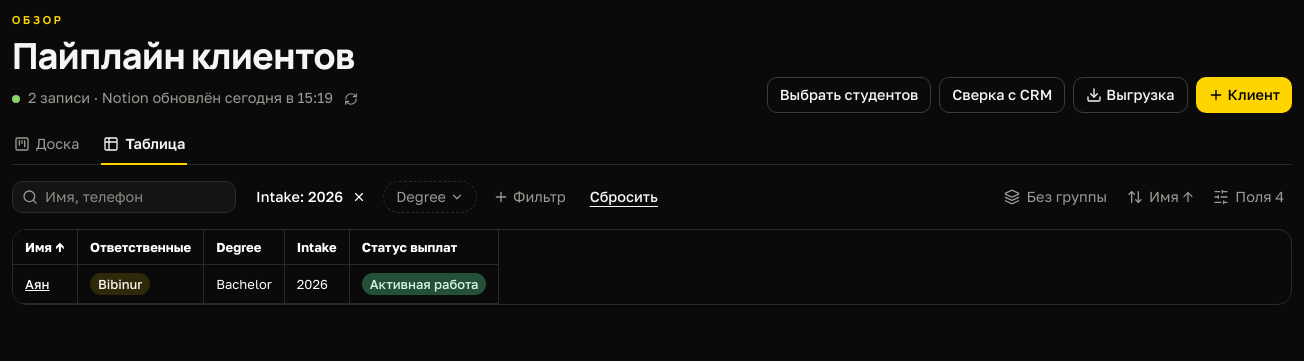
it: вид пайплайна › фильтр из ссылки показывается чипом и отбирает строки; крестик его снимает
The width and height of the screenshot is (1304, 361).
Expected: the button "Intake: 2026" is shown, x1=256 y1=186 x2=343 y2=208
Expected: the button "Аян" is shown, x1=25 y1=274 x2=50 y2=292
Click the button named "Убрать фильтр Intake" at (359, 196), box x1=347 y1=184 x2=371 y2=208
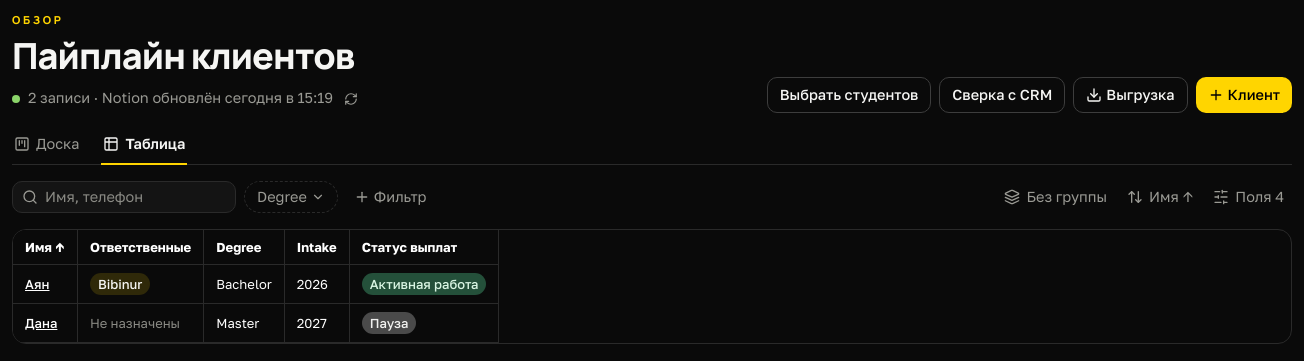
Result: the button "Дана" is shown at x1=25 y1=314 x2=57 y2=332
